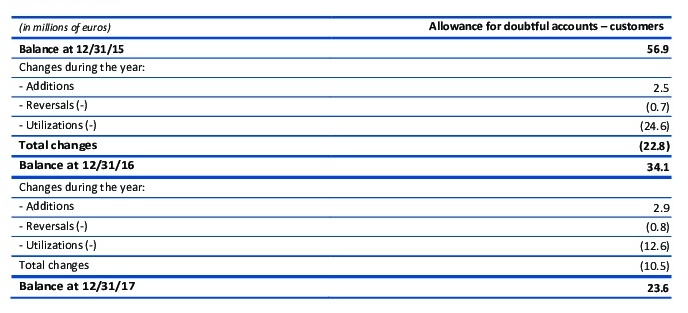table: (0, 0, 688, 313)
